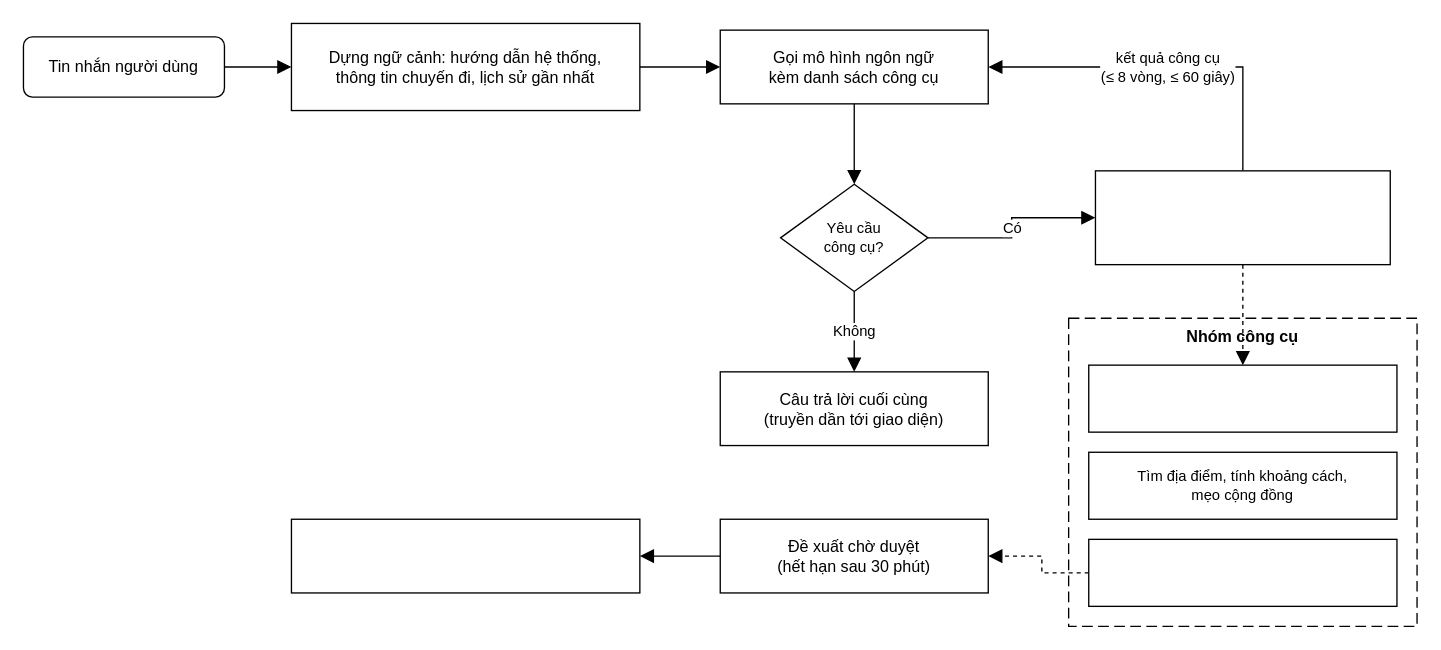
Image size: 1441x650. Some labels were removed from this diagram. The shapes that lost their labels are listed below. From the top down, each one's centre as x and y in pixels, then its label:
At (x=1242, y=217): "Bộ thực thi công cụ (chống lặp, giới hạn thời gian, ghi nhật ký)".
At (x=1242, y=398): "Đọc dữ liệu chuyến đi, lịch trình, sở thích, ngân sách, thời tiết".
At (x=465, y=555): "Người dùng: áp dụng / từ chối / hoàn tác trong 10 phút".
At (x=1242, y=572): "Tạo đề xuất thay đổi, tối ưu thứ tự trong ngày".
